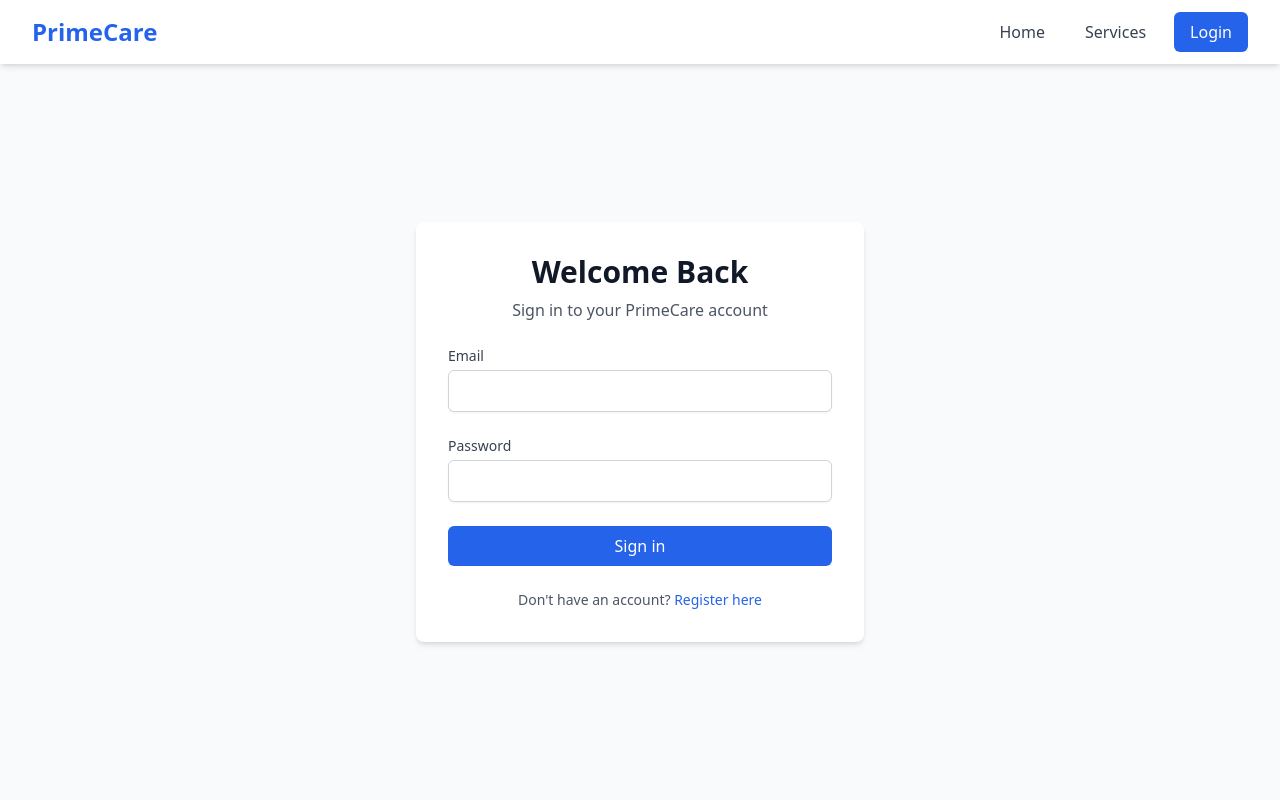
Login Page › shows validation errors when fields are empty
Step 1. Click the submit button → (640, 546), box [448, 526, 832, 566]
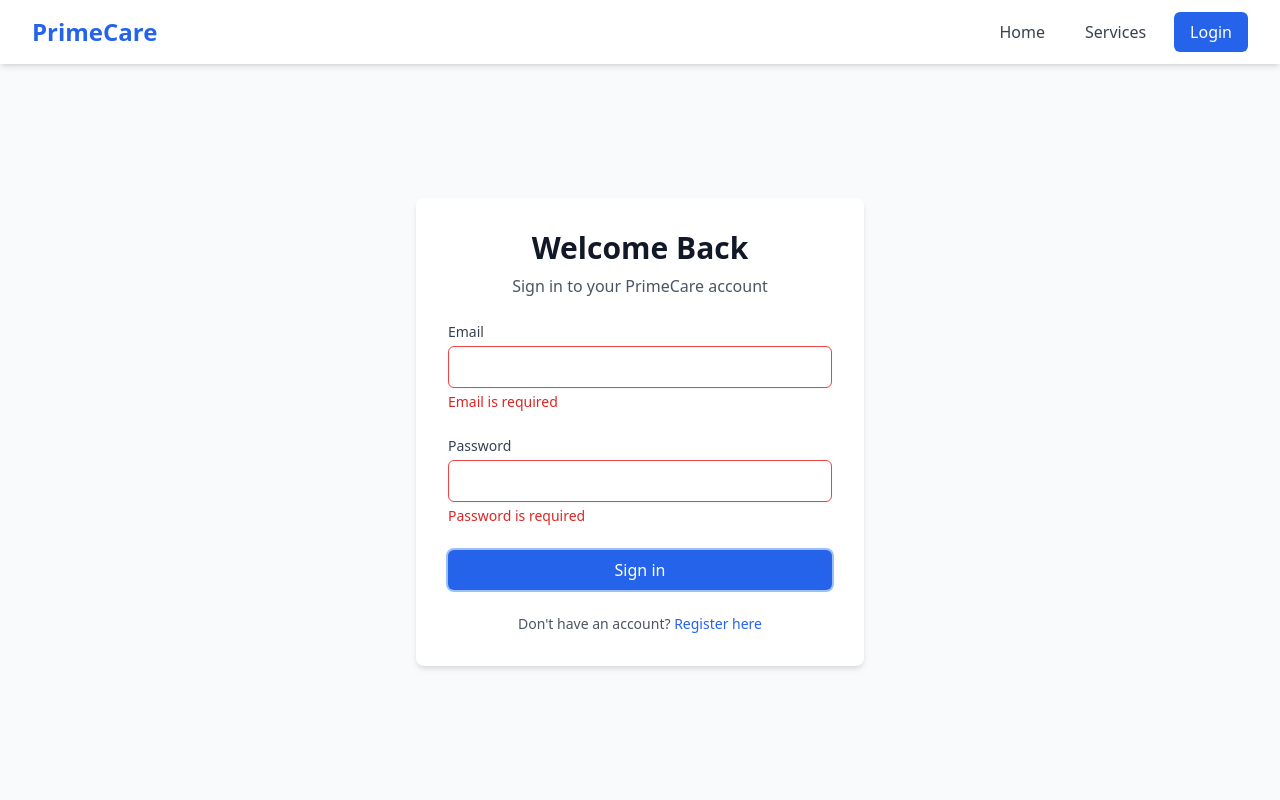
Check: the text "Email is required" is shown, box [448, 392, 558, 411]
Check: the text "Password is required" is shown, box [448, 506, 585, 525]
